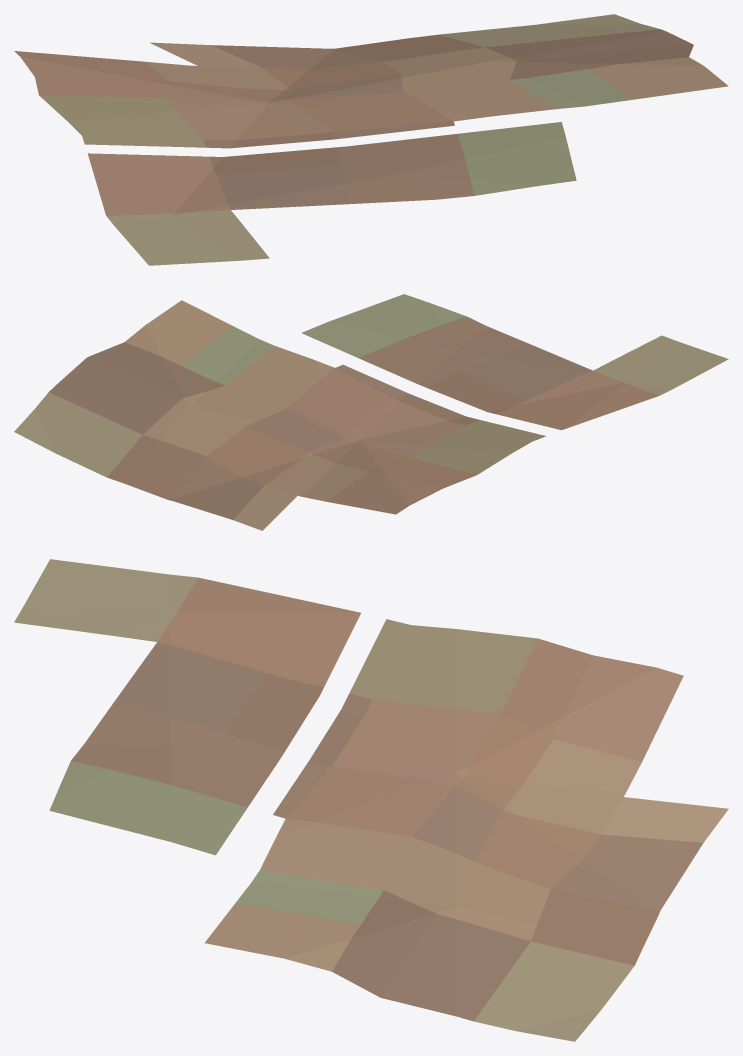
Rendered from farm_-5_5_soil.glb.
3 renders of one model, top to bottom at view 1: azimuth 30°, elevation 25°; view 2: azimuth 150°, elevation 25°; view 3: azimuth 270°, elevation 25°, orthographic. The views are drawn at different scales.
Visible parts, largest first — view 1: geometry_0; view 2: geometry_0; view 3: geometry_0.
Part boxes in pixels (left/top/right/bottom): geometry_0: left=14, top=14, right=728, bottom=265; geometry_0: left=14, top=294, right=728, bottom=530; geometry_0: left=14, top=559, right=728, bottom=1041.
Bounding box in the file's own units: 252 × 33.3 × 200.
